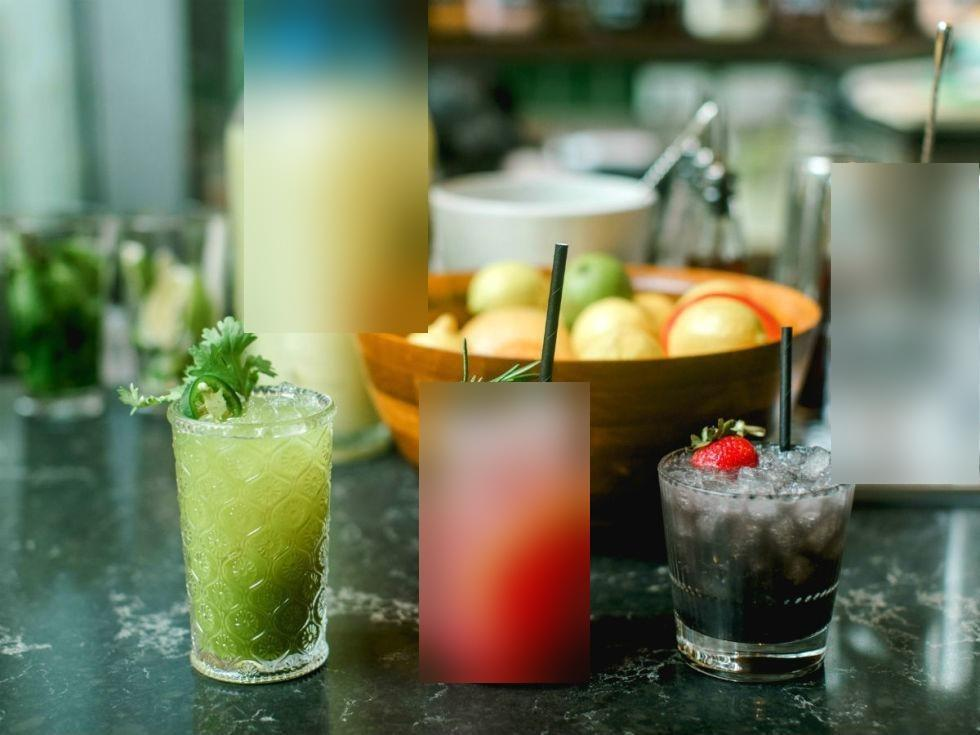glass-normal: (165, 378, 339, 683), (655, 436, 859, 684)
